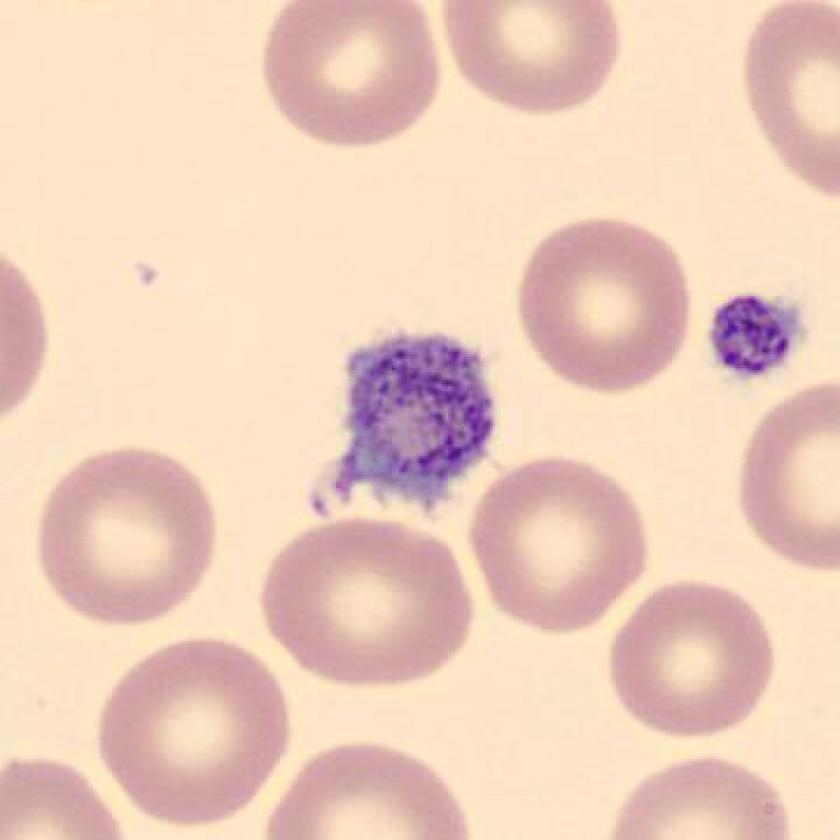platelets: (330, 323, 507, 524), (703, 276, 811, 399)
